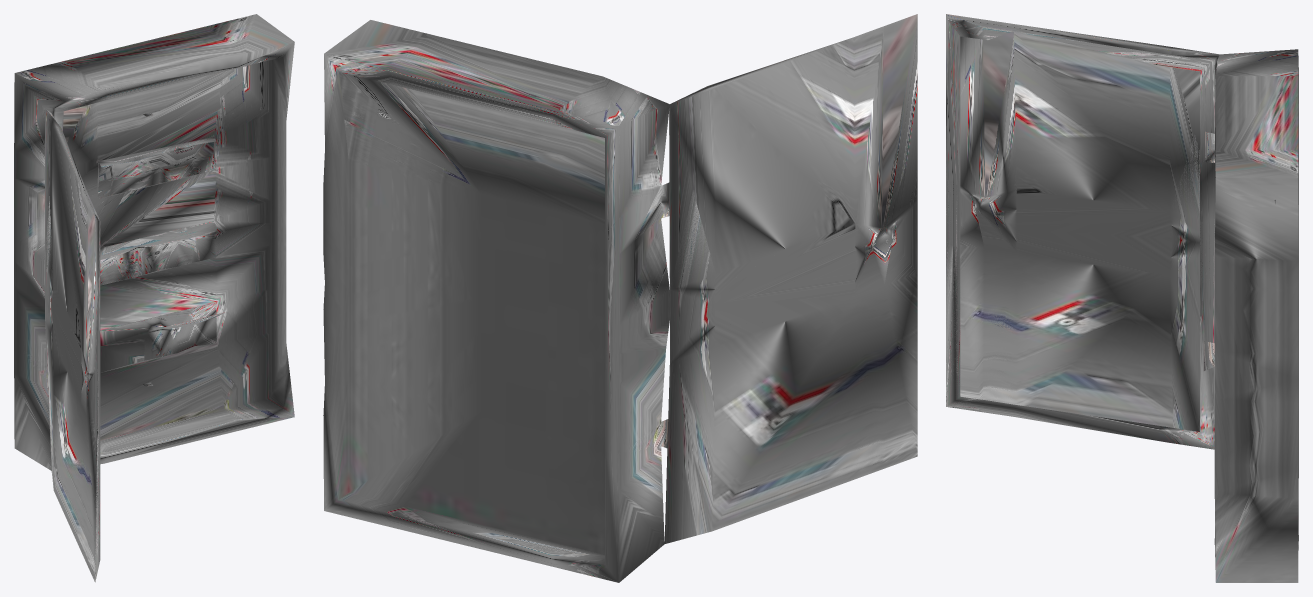
File: power-box.lite.d9c42141.glb
3 renders of one model, left to right at view 1: azimuth 30°, elevation 25°; view 2: azimuth 150°, elevation 25°; view 3: azimuth 270°, elevation 25°, orthographic. The views are drawn at different scales.
Visible parts, largest first — view 1: model; view 2: model; view 3: model.
Part boxes in pixels (x1,y1,x2,y2): model: (14,14,294,582); model: (323,14,917,582); model: (946,14,1298,582).
Size of the model in its own units: 0.4556 by 0.5031 by 0.3963.
1 material, 1 textured.
